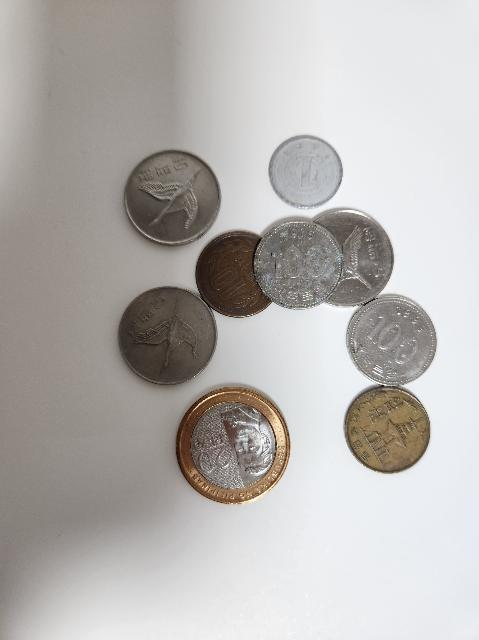coin: (176, 388, 288, 504), (119, 282, 218, 386), (302, 206, 394, 310), (127, 150, 219, 248), (344, 292, 438, 384), (255, 216, 343, 308), (349, 386, 435, 472), (198, 229, 278, 317), (268, 130, 344, 208)
